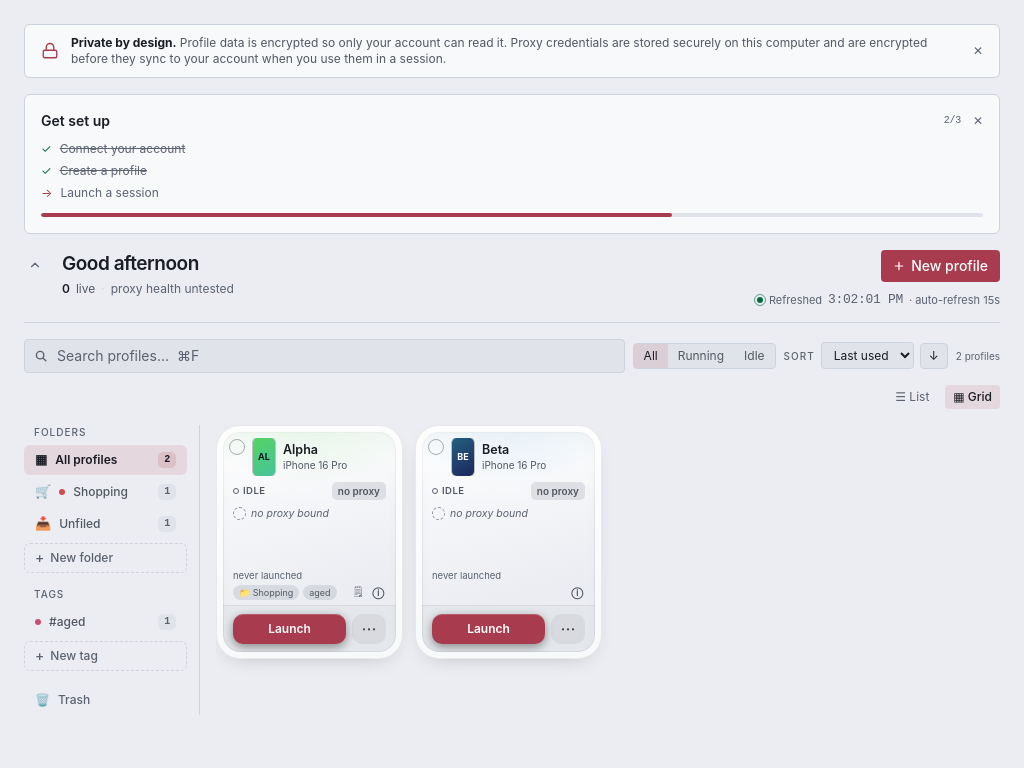
Test case: ProfilesView search is GLOBAL — it bypasses the folder rail scoping › finds a profile in ANOTHER folder while a rail folder is selected
The width and height of the screenshot is (1024, 768).
Expected: the text "Alpha" is shown, [283,442,318,456]
Expected: the text "Beta" is shown, [482,442,509,456]
Click the text "Shopping" at point(101, 491), box [73,484,128,498]
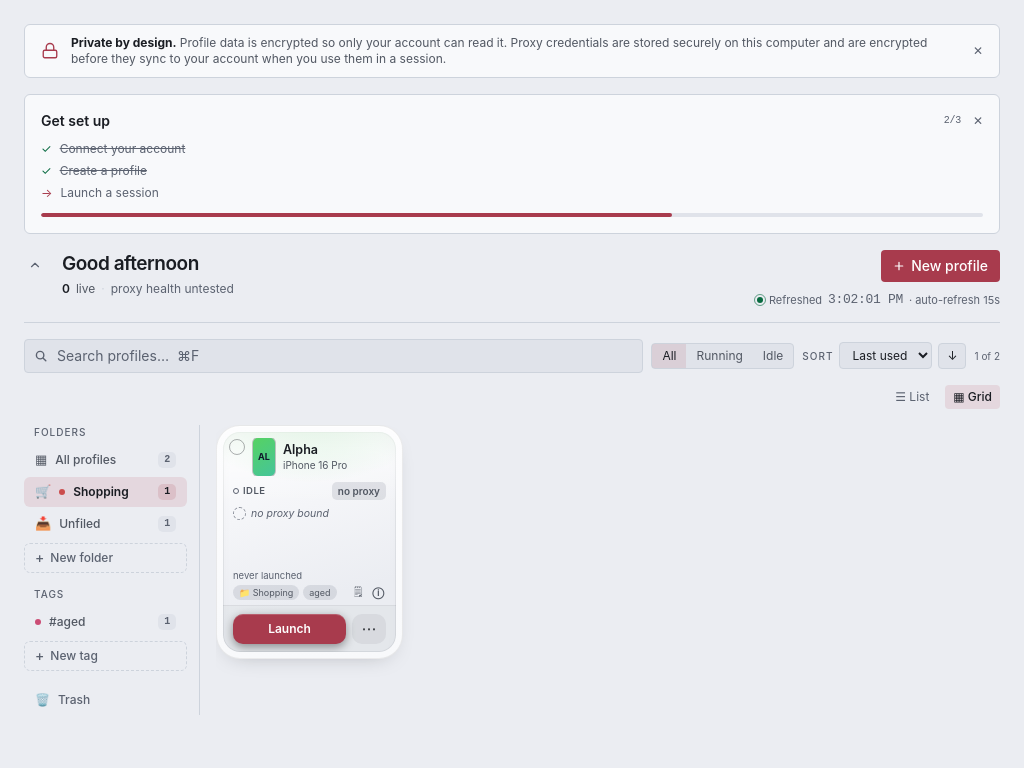
Expected: the text "Alpha" is shown, [283,442,318,456]
Expected: the button "Beta" is gone
Type "beta" into the search field labelled "Search profiles" at point(334, 356), box [24,338,643,372]
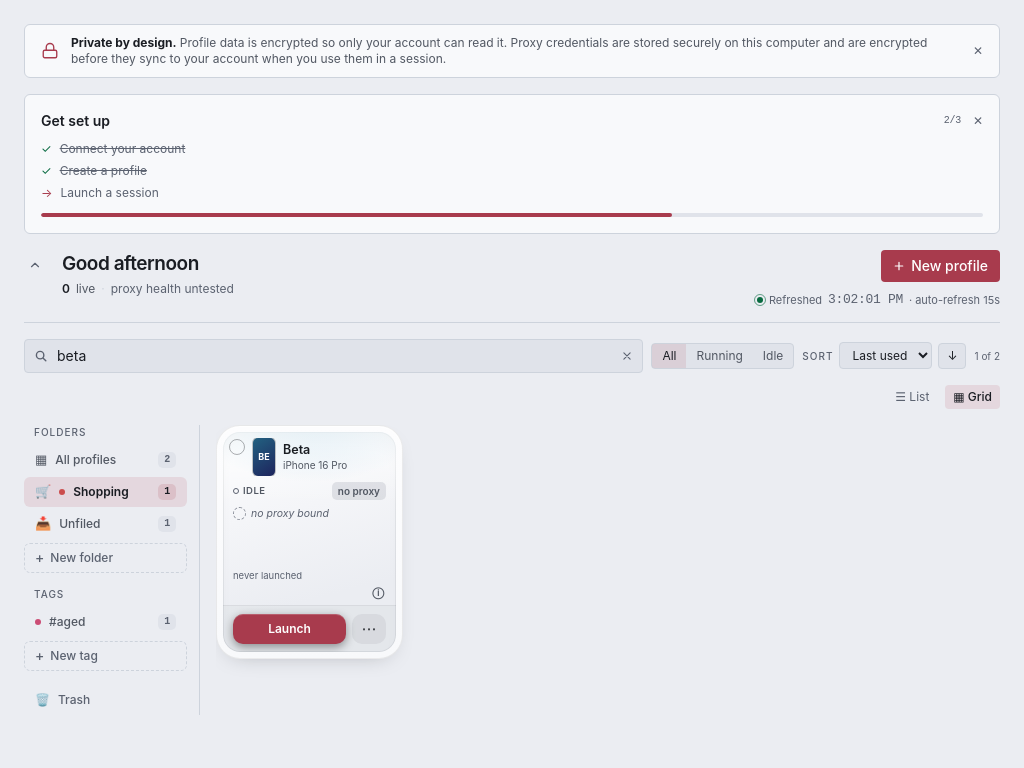
Expected: the text "Beta" is shown, [283,442,310,456]
Expected: the button "Alpha" is gone
Clear the search field named "Search profiles" at point(334, 356), box [24,338,643,372]
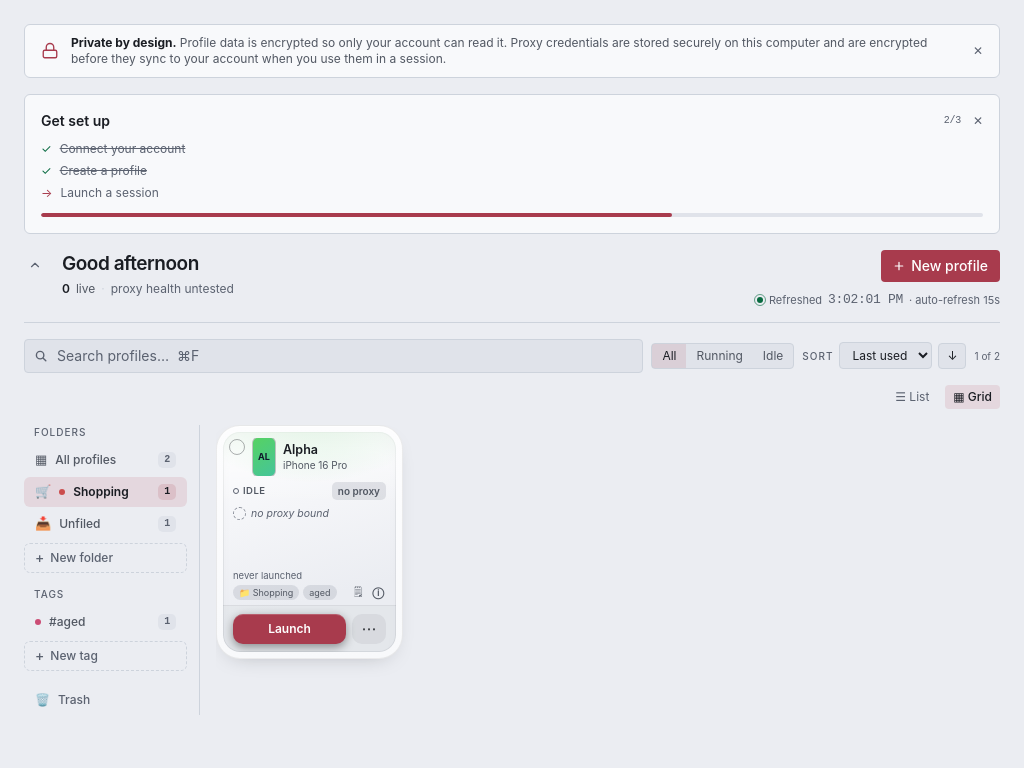
Expected: the text "Alpha" is shown, [283,442,318,456]
Expected: the button "Beta" is gone
